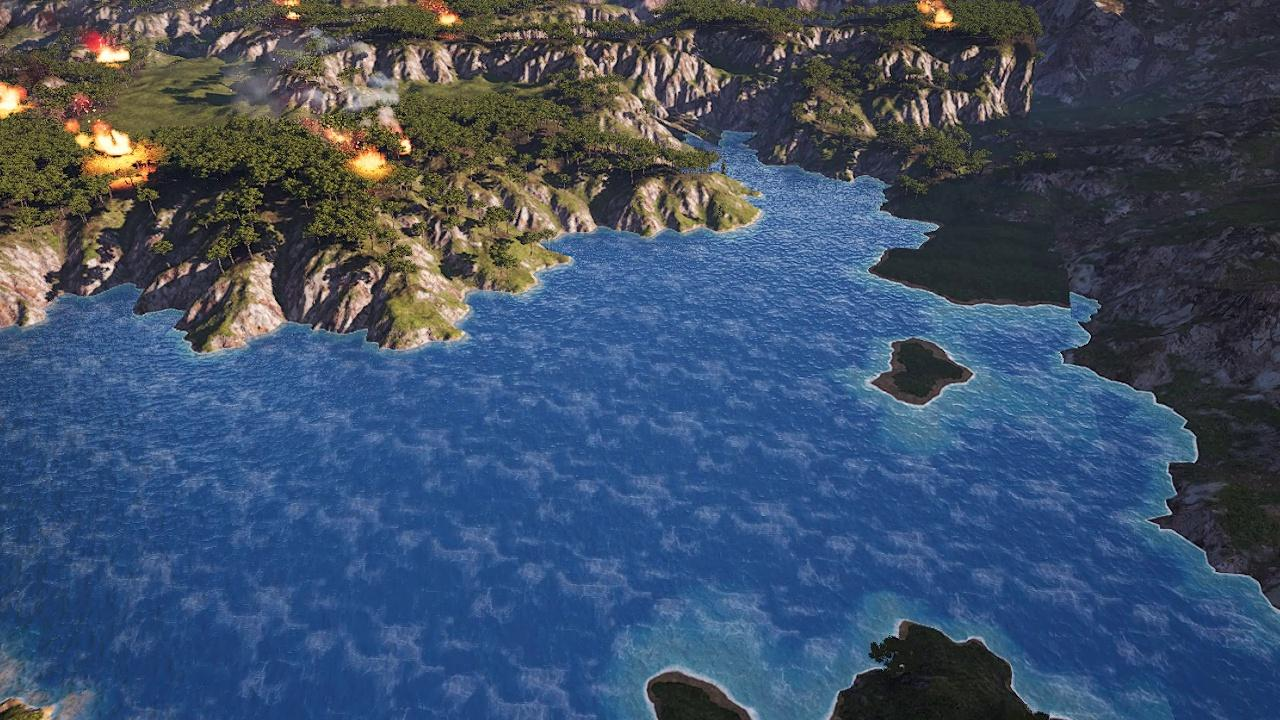fire: (67, 118, 154, 171), (86, 31, 128, 63), (915, 0, 954, 26), (1, 85, 27, 120), (273, 0, 303, 25), (353, 153, 386, 174), (436, 12, 458, 25), (398, 137, 412, 156)
smoke: (222, 52, 402, 129)
